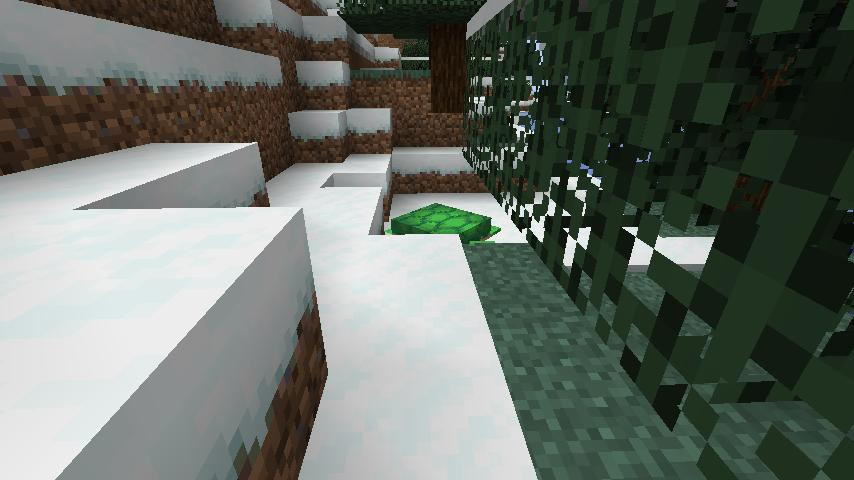turtle: (384, 200, 504, 243)
